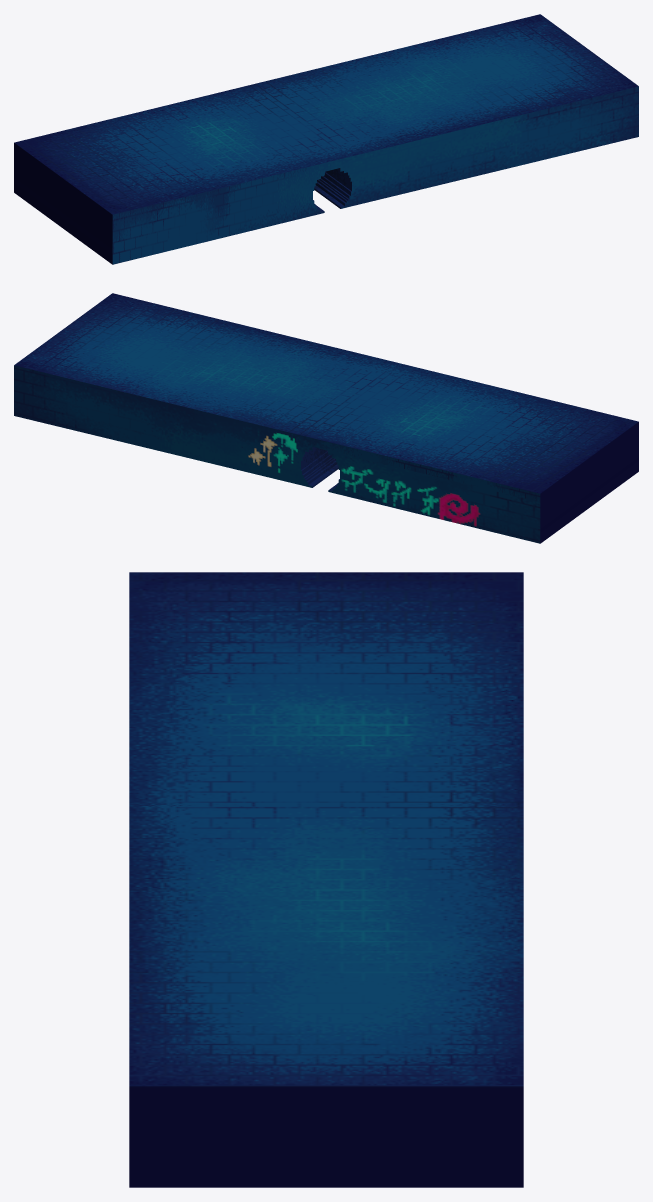
Rendered from MDL_BO_Bridge_01.fbx.
3 renders of one model, top to bottom at view 1: azimuth 30°, elevation 25°; view 2: azimuth 150°, elevation 25°; view 3: azimuth 270°, elevation 25°, orthographic. The views are drawn at different scales.
Visible parts, largest first — view 1: Bridge; view 2: Bridge; view 3: Bridge.
Boxes of the visible parts, x1,y1,x2,y2 form: Bridge: (14,14,638,264); Bridge: (14,293,638,543); Bridge: (129,572,523,1187).
Bounding box in the file's own units: 6583 × 605 × 2134.
